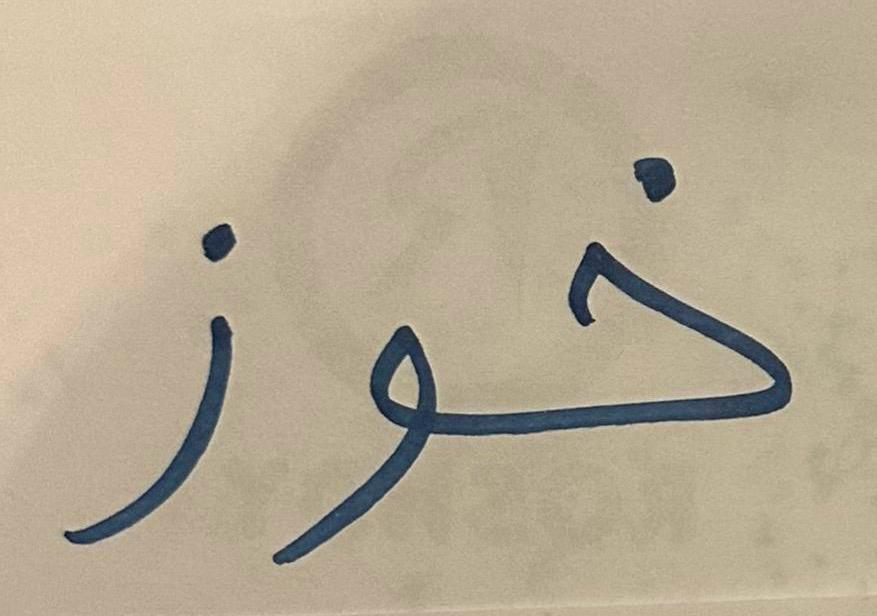hamza: (34, 191, 255, 569)
lam: (485, 124, 831, 498)
yeh: (259, 256, 482, 579)
